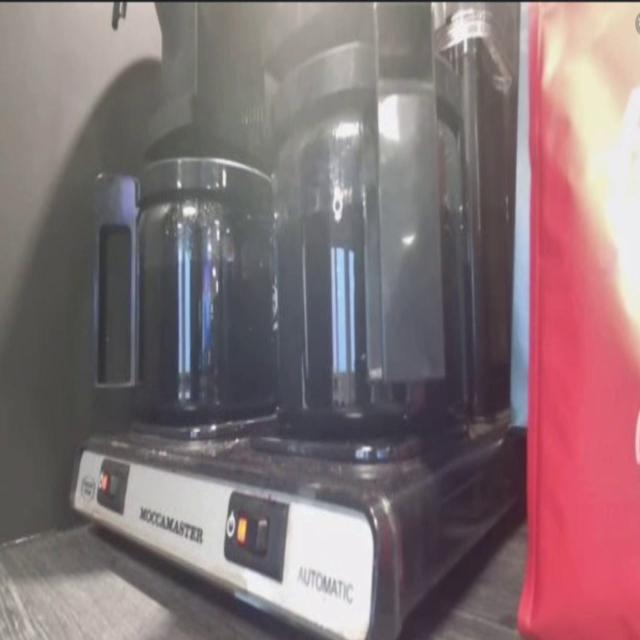coffee: (265, 35, 475, 425), (125, 152, 282, 418)
